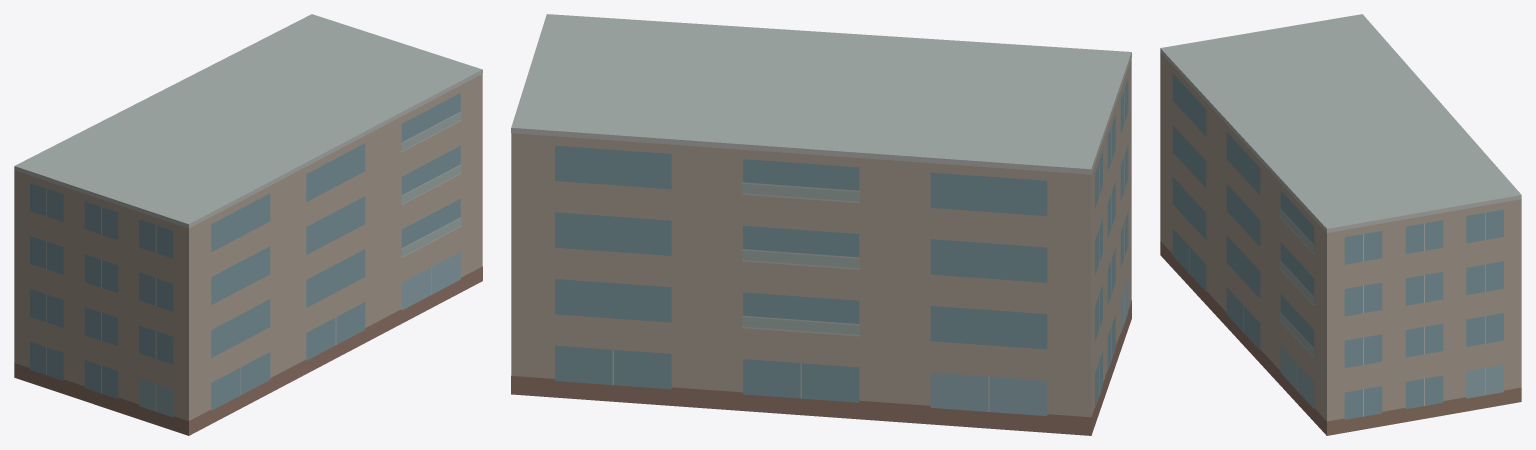
The model's file is survey-upis-32844173.glb.
The picture shows the model from 3 angles, left to right: view 1: azimuth 30°, elevation 25°; view 2: azimuth 150°, elevation 25°; view 3: azimuth 270°, elevation 25°; orthographic projection. The views are drawn at different scales.
Visible parts, largest first — view 1: survey-upis-32844173.tmp; view 2: survey-upis-32844173.tmp; view 3: survey-upis-32844173.tmp.
Boxes of the visible parts, <box> form: survey-upis-32844173.tmp: <box>14,14,482,435</box>; survey-upis-32844173.tmp: <box>511,14,1131,435</box>; survey-upis-32844173.tmp: <box>1160,14,1521,435</box>.
Bounding box in the file's own units: 27.18 × 12.2 × 19.32.
